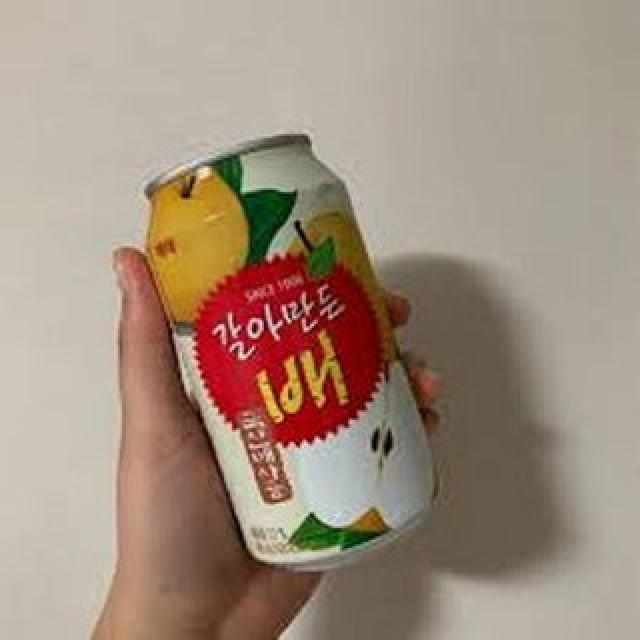can: (136, 132, 458, 568)
